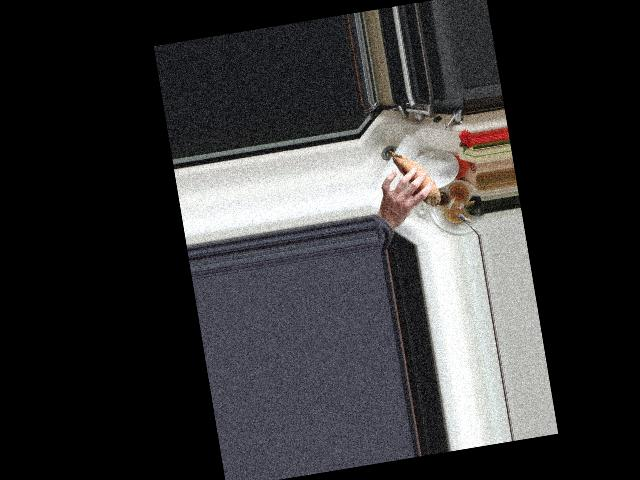sweet_potato: (388, 143, 442, 211)
